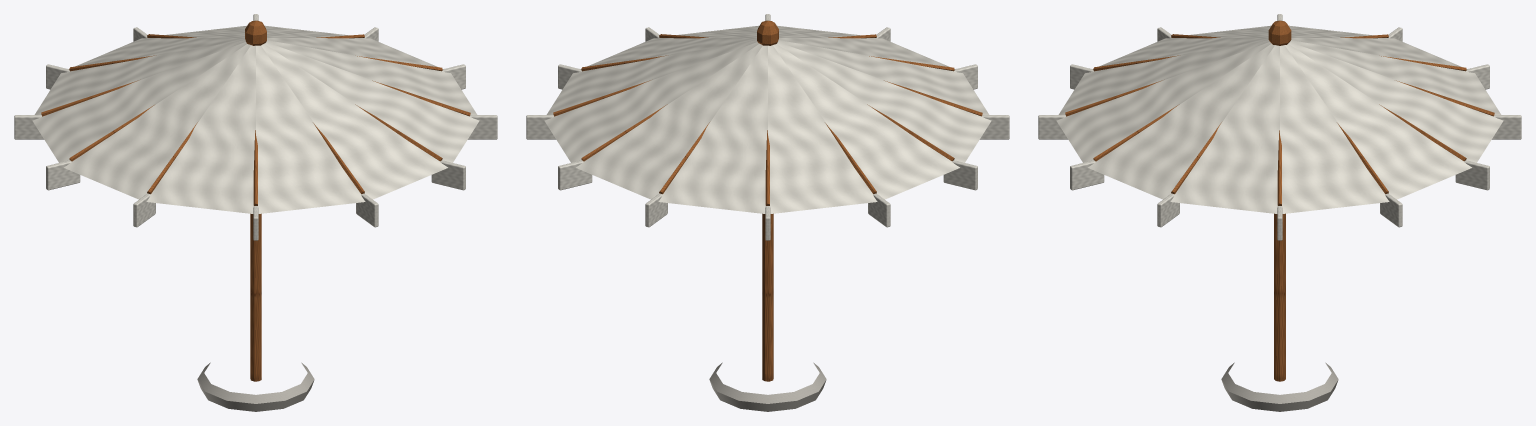
The model's file is parasol.glb.
3 views of the same model, side by side, from view 1: azimuth 30°, elevation 25°; view 2: azimuth 150°, elevation 25°; view 3: azimuth 270°, elevation 25° (orthographic).
Visible parts, largest first — view 1: cafe-parasol; view 2: cafe-parasol; view 3: cafe-parasol.
Boxes of the visible parts, box(x1,y1,x2,y2) form: cafe-parasol: box(14, 14, 497, 411); cafe-parasol: box(526, 14, 1009, 411); cafe-parasol: box(1038, 14, 1521, 411).
Bounding box in the file's own units: 2.8 × 2.35 × 2.8.
Materials: 3 (3 with a texture image).
